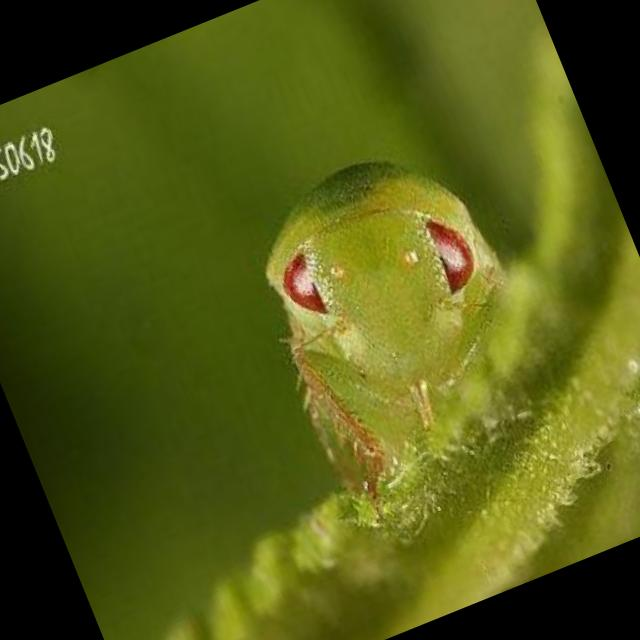green-leafhopper: (222, 125, 564, 498)
